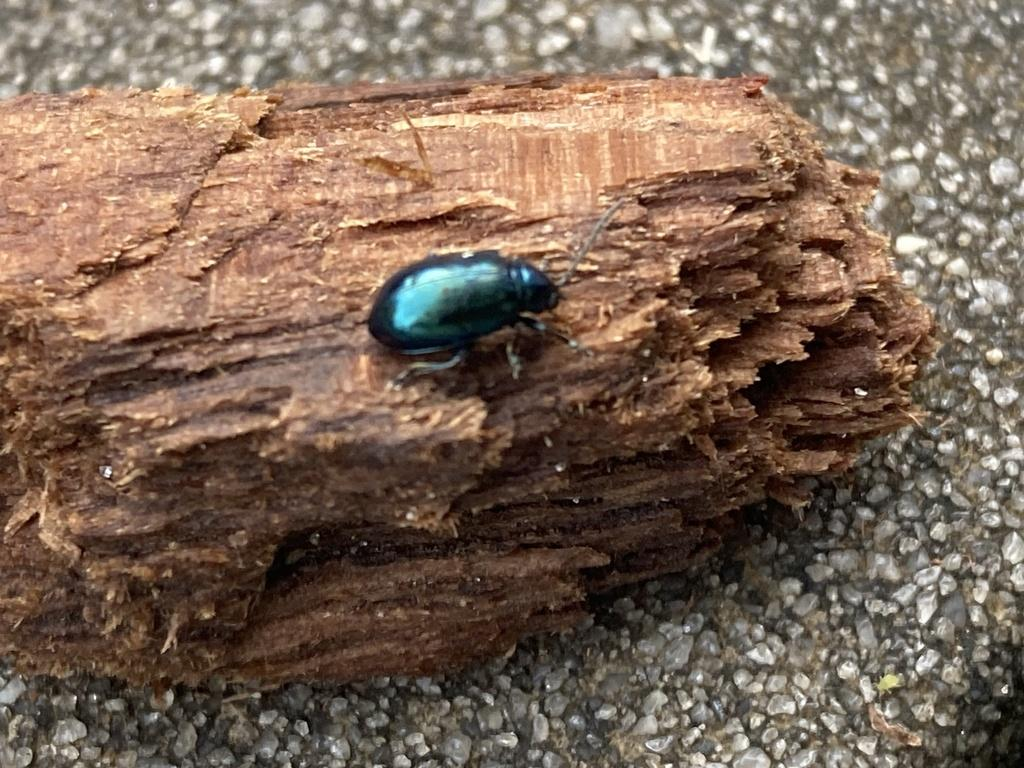flea_beetle: (329, 179, 659, 420)
